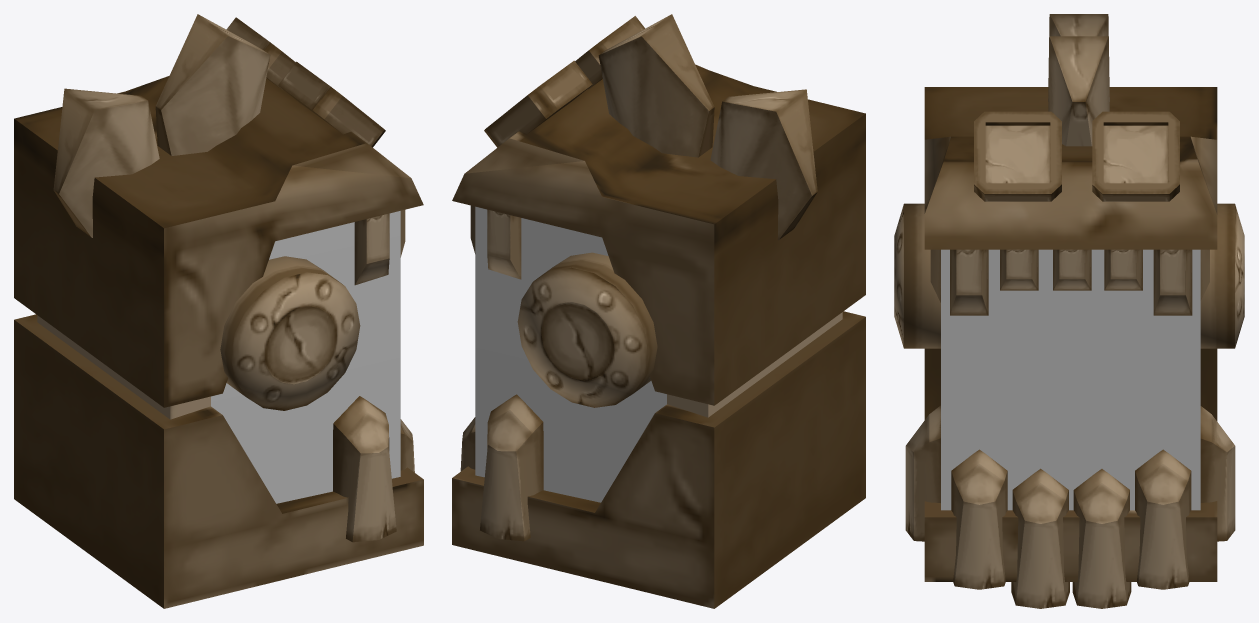
Rendered from Score_totem_V2.FBX.
3 views of the same model, side by side, from view 1: azimuth 30°, elevation 25°; view 2: azimuth 150°, elevation 25°; view 3: azimuth 270°, elevation 25° (orthographic). The views are drawn at different scales.
Visible parts, largest first — view 1: totem, Object002; view 2: totem, Object002; view 3: totem, Object002.
Part boxes in pixels (box(x1,y1,x2,y2)): totem: box(14, 14, 423, 608); Object002: box(211, 211, 400, 503); totem: box(452, 14, 865, 608); Object002: box(475, 206, 666, 502); totem: box(894, 14, 1244, 608); Object002: box(941, 249, 1200, 510).
Size of the model in its own units: 149 by 240 by 152.
